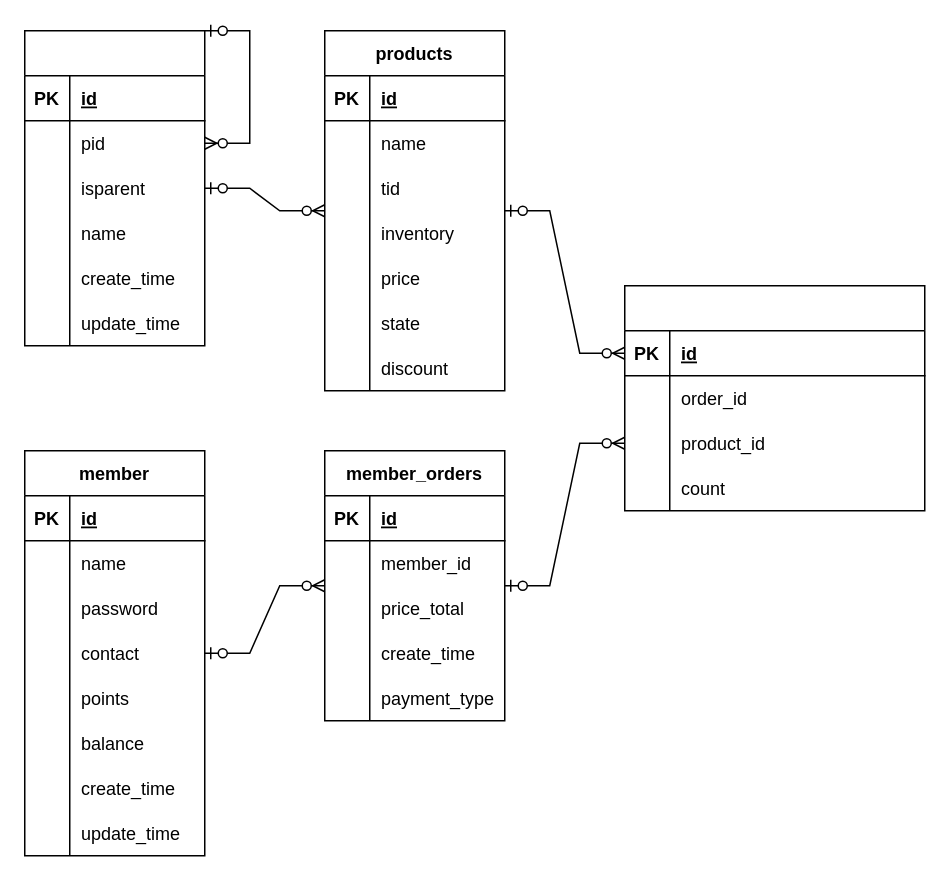
Image size: 950x881. Some labels were removed from this diagram. Each missing label, with the box of its shape:
member_orders_products: (623, 284, 925, 511)
products_types: (23, 29, 205, 346)
